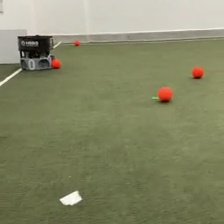ball: (156, 85, 172, 102), (192, 65, 204, 79), (51, 57, 61, 69), (74, 38, 80, 46)
robot: (16, 32, 55, 71)
